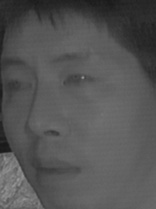eye: (57, 70, 99, 93), (1, 76, 34, 95)
mouth: (27, 156, 83, 184)
